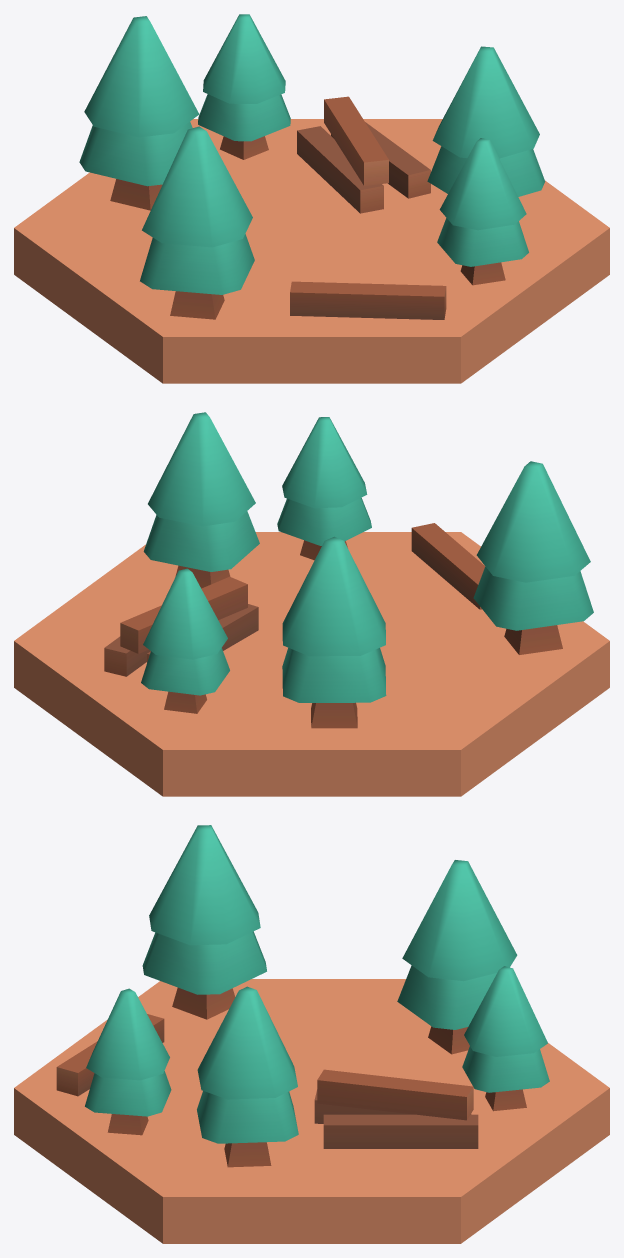
Rendered from kenney-hexagon-dirt-lumber.glb.
The picture shows the model from 3 angles, top to bottom: view 1: azimuth 30°, elevation 25°; view 2: azimuth 150°, elevation 25°; view 3: azimuth 270°, elevation 25°; orthographic projection.
Parts seen in each view (by area): view 1: dirt_lumber; view 2: dirt_lumber; view 3: dirt_lumber.
Part boxes in pixels (left/top/right/bottom): dirt_lumber: left=14, top=14, right=609, bottom=383; dirt_lumber: left=14, top=412, right=609, bottom=796; dirt_lumber: left=14, top=825, right=609, bottom=1243.
Bounding box in the file's own units: 1 × 0.48 × 1.15.
Materials: 1 (1 with a texture image).
